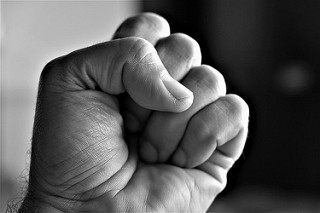fist: (51, 25, 236, 205)
